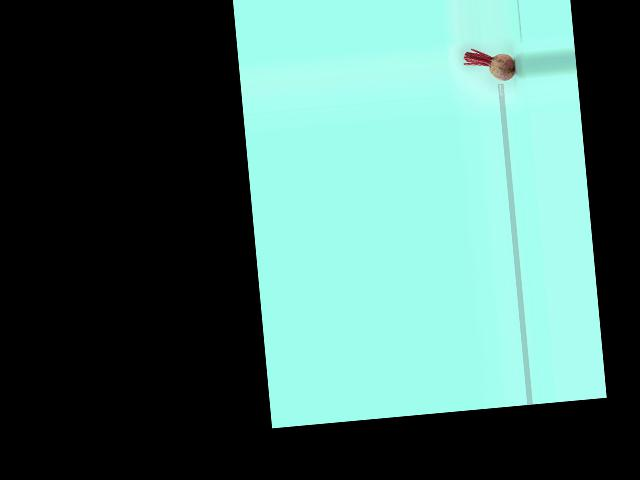beet: (462, 45, 516, 84)
